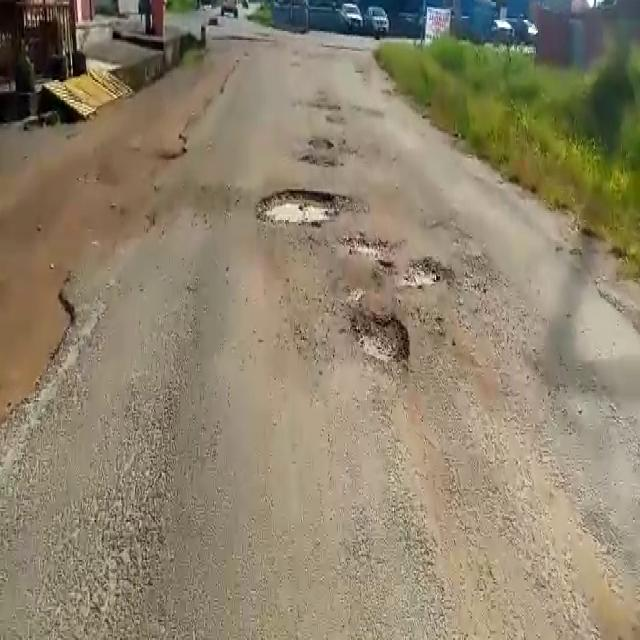Pothole: (255, 188, 370, 228), (348, 306, 411, 368), (338, 232, 396, 269), (405, 255, 455, 282)
